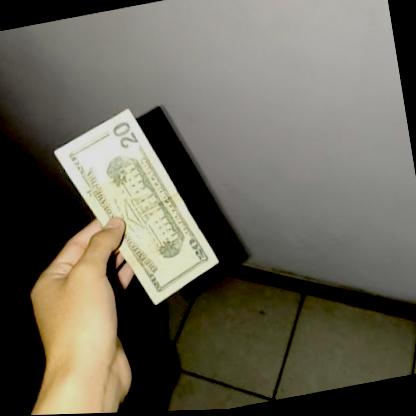twenty-back: (49, 94, 225, 319)
